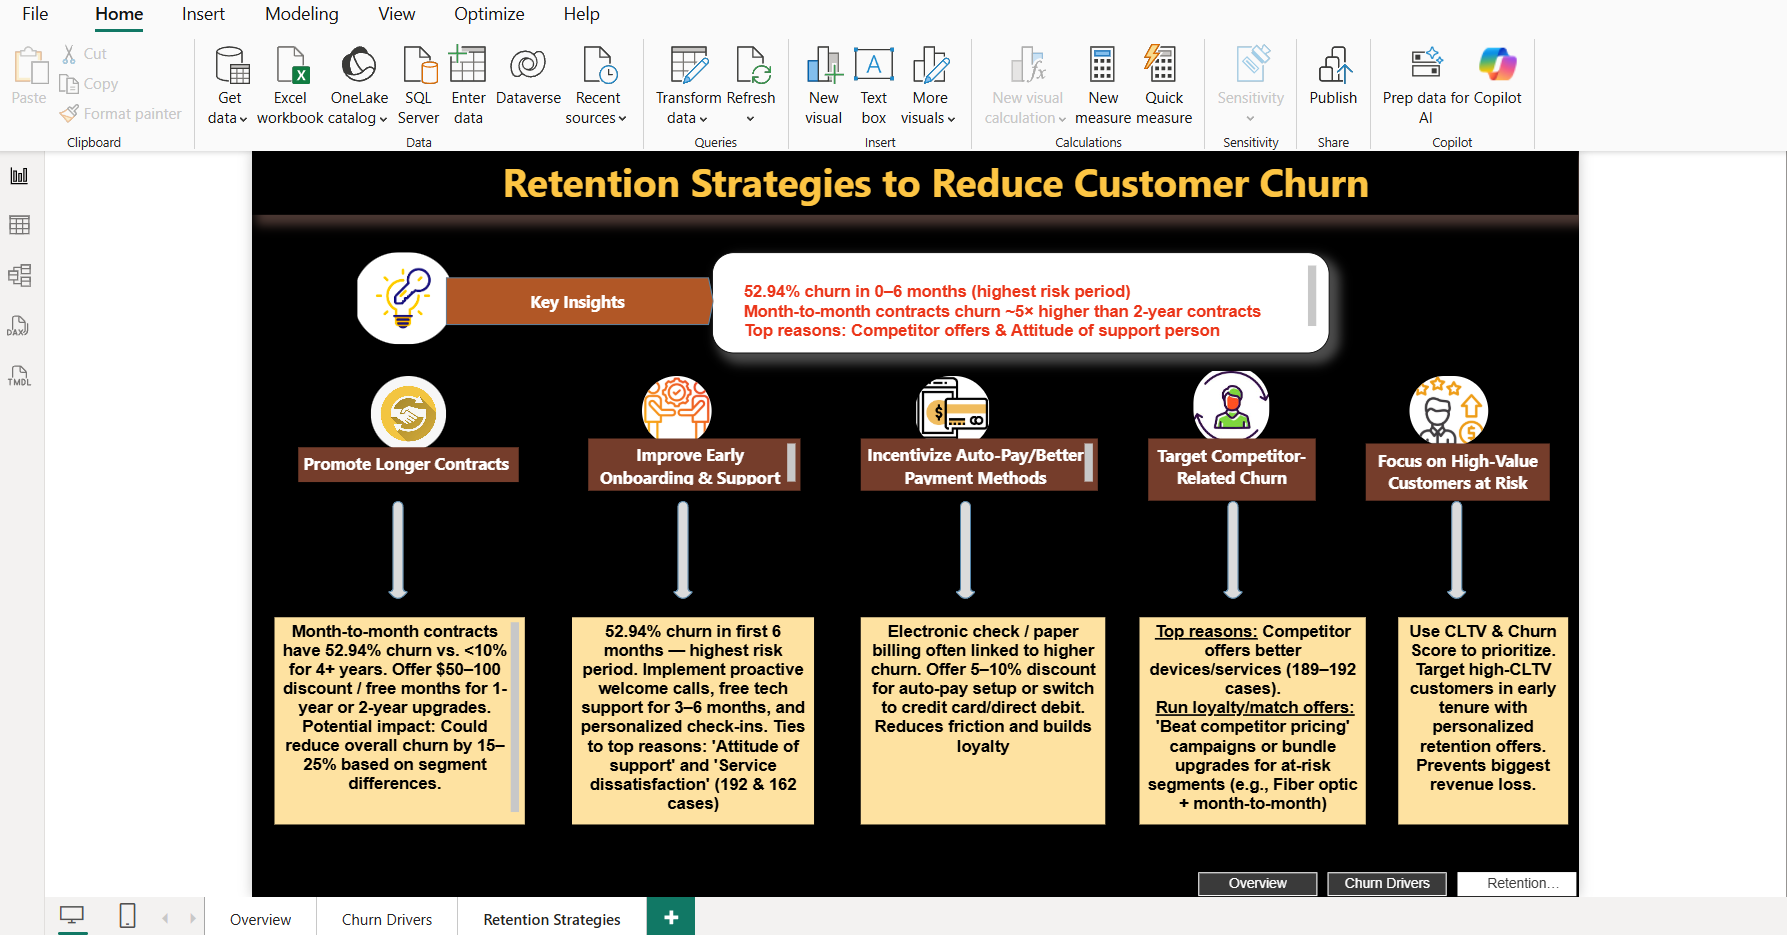

What the dashboard file says about the page in this screenshot:
{"tool":"powerbi","page":{"name":"Retention Strategies","canvas":[1280,720],"ordinal":2},"visuals":[{"type":"textbox","box":[0,0,1280,61.2],"z":0},{"type":"textbox","box":[21.2,450,241.2,200],"z":1000},{"type":"textbox","box":[308.8,450,233.8,200],"z":2000},{"type":"textbox","box":[856.2,450,218.8,200],"z":3000},{"type":"textbox","box":[587.5,450,236.2,200],"z":4000},{"type":"textbox","box":[443.8,97.5,596.2,97.5],"z":5000},{"type":"textbox","box":[1106.2,450,163.8,200],"z":6000},{"type":"pageNavigator","box":[913.8,696.2,366.2,23.8],"z":7000},{"type":"image","box":[115,217.5,72.5,72.5],"z":8000},{"type":"textbox","box":[45,286.2,212.5,33.8],"z":9000},{"type":"image","box":[376.2,217.5,67.5,67.5],"z":10000},{"type":"textbox","box":[325,277.5,205,50],"z":11000},{"type":"image","box":[640,217.5,73.8,70],"z":11001},{"type":"textbox","box":[587.5,277.5,228.8,50],"z":11002},{"type":"image","box":[908.8,207.5,73.8,78.8],"z":11003},{"type":"textbox","box":[865,277.5,161.2,60],"z":11004},{"type":"image","box":[1117.5,217.5,76.2,67.5],"z":11005},{"type":"textbox","box":[1075,282.5,177.5,55],"z":11006},{"type":"shape","box":[130,337.5,21.2,97.5],"z":11007},{"type":"shape","box":[405,337.5,21.2,97.5],"z":11008},{"type":"shape","box":[677.5,337.5,21.2,97.5],"z":11009},{"type":"shape","box":[936.2,337.5,21.2,97.5],"z":11010},{"type":"shape","box":[1152.5,337.5,21.2,97.5],"z":11011},{"type":"image","box":[97.5,97.5,97.5,88.8],"z":11012},{"type":"shape","box":[187.5,121.2,258.8,46.2],"z":11013}]}

Visuals, with their boxes on the page's 1280x720 design canvas (x1, y1, x2, y2). These are canvas units, not pixel positions in the 1787x935 screenshot, which may show the page scaled, cropped or inside an application window:
textbox: (left=0, top=0, right=1280, bottom=61)
textbox: (left=21, top=450, right=262, bottom=650)
textbox: (left=309, top=450, right=543, bottom=650)
textbox: (left=856, top=450, right=1075, bottom=650)
textbox: (left=588, top=450, right=824, bottom=650)
textbox: (left=444, top=98, right=1040, bottom=195)
textbox: (left=1106, top=450, right=1270, bottom=650)
pageNavigator: (left=914, top=696, right=1280, bottom=720)
image: (left=115, top=218, right=188, bottom=290)
textbox: (left=45, top=286, right=258, bottom=320)
image: (left=376, top=218, right=444, bottom=285)
textbox: (left=325, top=278, right=530, bottom=328)
image: (left=640, top=218, right=714, bottom=288)
textbox: (left=588, top=278, right=816, bottom=328)
image: (left=909, top=208, right=983, bottom=286)
textbox: (left=865, top=278, right=1026, bottom=338)
image: (left=1118, top=218, right=1194, bottom=285)
textbox: (left=1075, top=282, right=1252, bottom=338)
shape: (left=130, top=338, right=151, bottom=435)
shape: (left=405, top=338, right=426, bottom=435)
shape: (left=678, top=338, right=699, bottom=435)
shape: (left=936, top=338, right=957, bottom=435)
shape: (left=1152, top=338, right=1174, bottom=435)
image: (left=98, top=98, right=195, bottom=186)
shape: (left=188, top=121, right=446, bottom=167)
